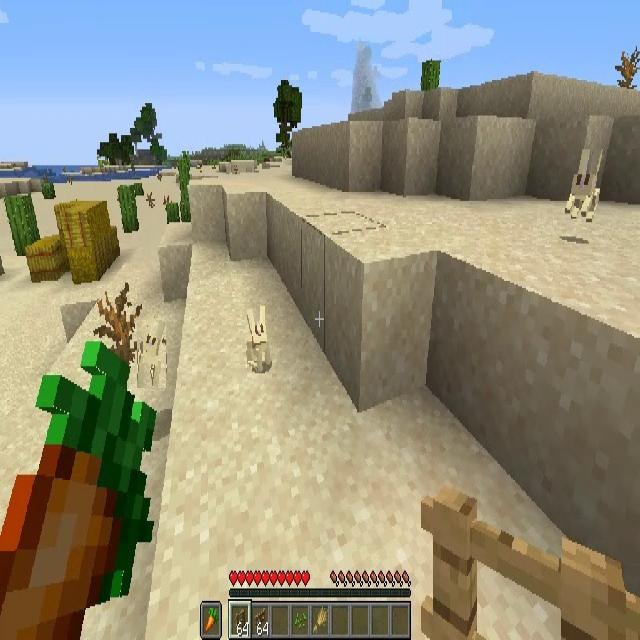rabbit: (563, 144, 604, 228), (137, 320, 166, 388), (246, 304, 271, 374)
